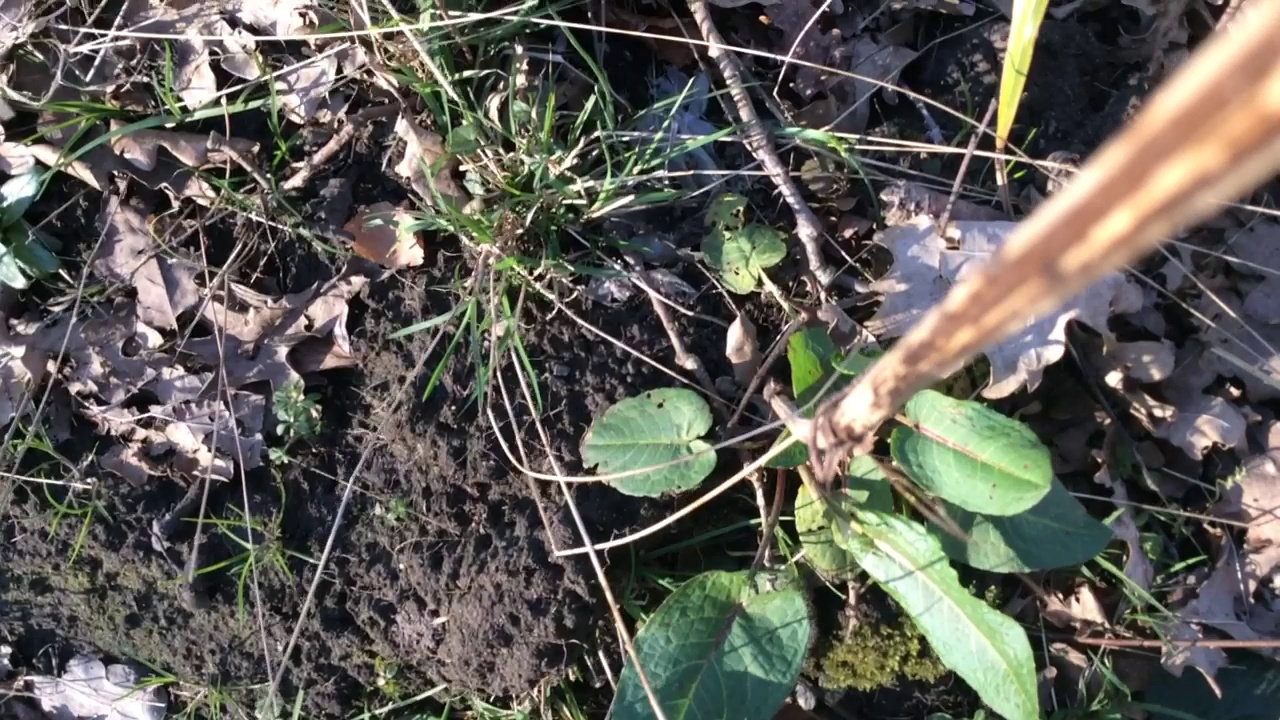rumex: (576, 194, 1118, 720)
